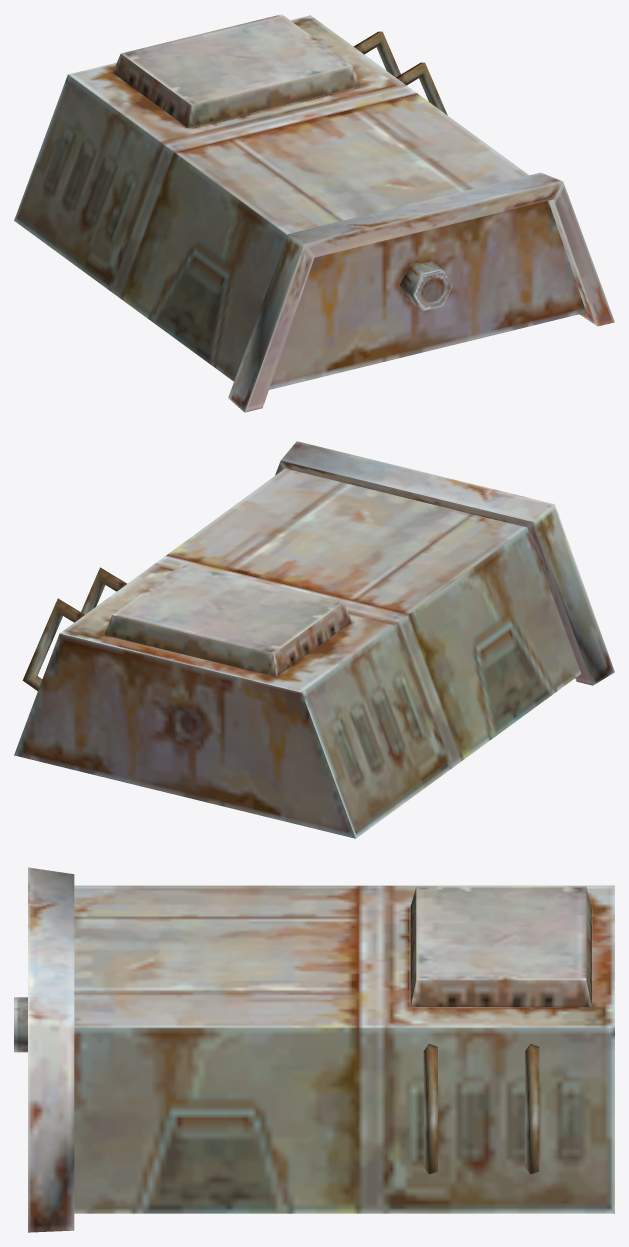
File: tyt_arch_fleshraider_junk_12.glb
The picture shows the model from 3 angles, top to bottom: view 1: azimuth 30°, elevation 25°; view 2: azimuth 150°, elevation 25°; view 3: azimuth 270°, elevation 25°; orthographic projection. The views are drawn at different scales.
Parts seen in each view (by area): view 1: tyt_arch_fleshraider_junk_12; view 2: tyt_arch_fleshraider_junk_12; view 3: tyt_arch_fleshraider_junk_12.
Boxes of the visible parts, <box> form: tyt_arch_fleshraider_junk_12: <box>14,14,614,412</box>; tyt_arch_fleshraider_junk_12: <box>14,441,614,838</box>; tyt_arch_fleshraider_junk_12: <box>14,867,614,1232</box>.
Size of the model in its own units: 0.1387 by 0.0562 by 0.1578.
1 material, 1 textured.
